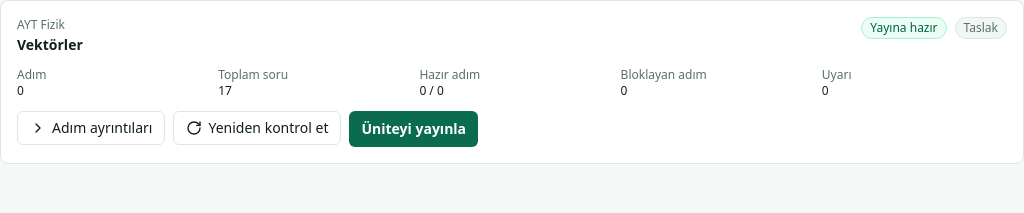
Test: PublishingUnitCard › says a unit without nodes has nothing to check
The image size is (1024, 213).
Step 1. Click the button "Adım ayrıntıları" → (91, 128), box [17,111,166,145]
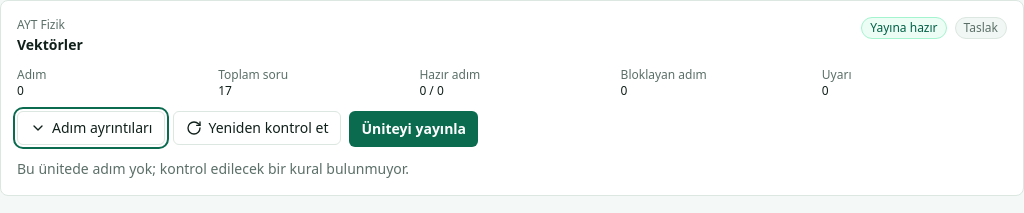
Expected: the text "Bu ünitede adım yok; kontrol edilecek bir kural bulunmuyor." is shown, [17,159,409,178]
